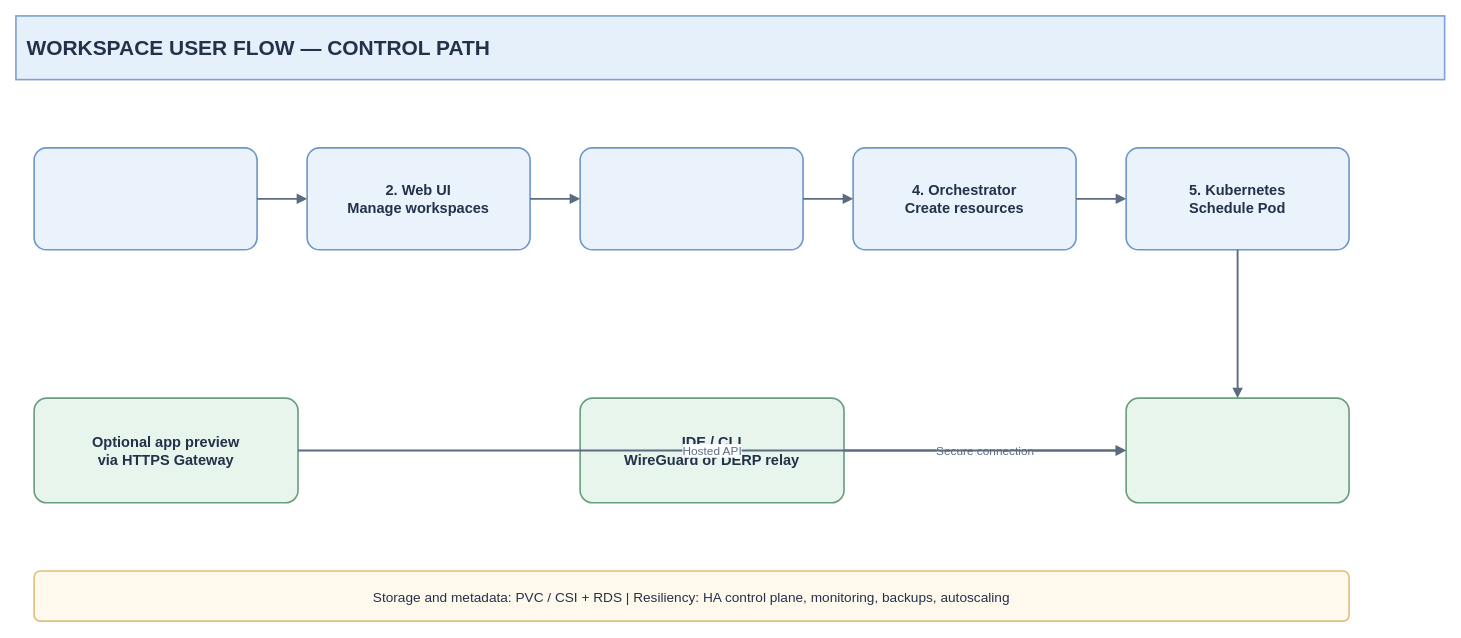
The diagram is 1461 pixels wide and 638 high, and some of its shapes have lost their labels. Each missing label, with the centre of its shape:
1. Browser + OIDC Sign in: point 145,198
3. Management API Authorize request: point 691,198
Workspace Pod Agent + Tools + App: point 1237,450
